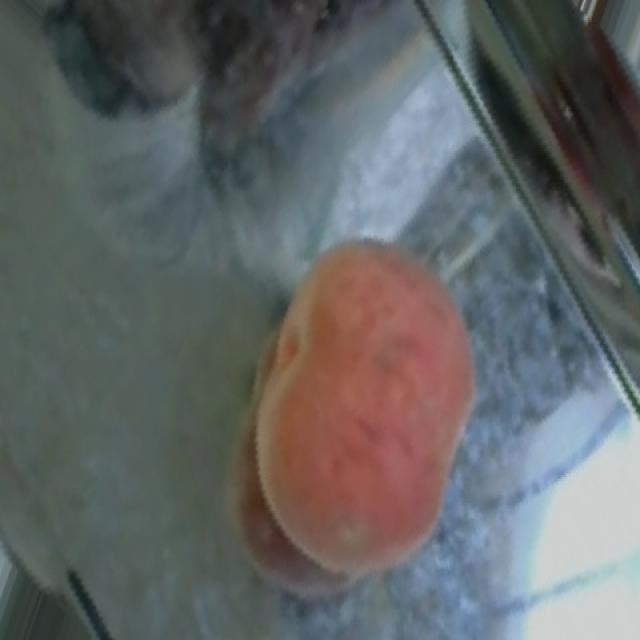Fruit: (202, 290, 498, 606)
